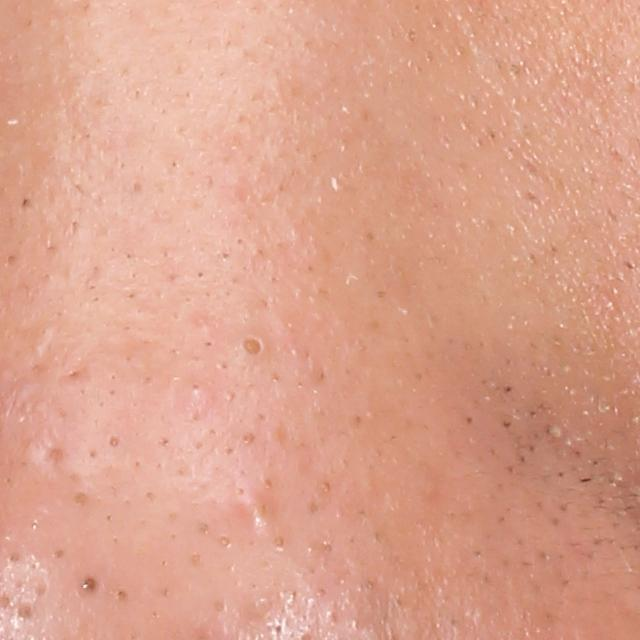atrophic_scar: (45, 445, 67, 464)
comedo: (234, 331, 268, 360), (246, 508, 273, 531), (76, 575, 101, 596), (106, 430, 124, 451)
